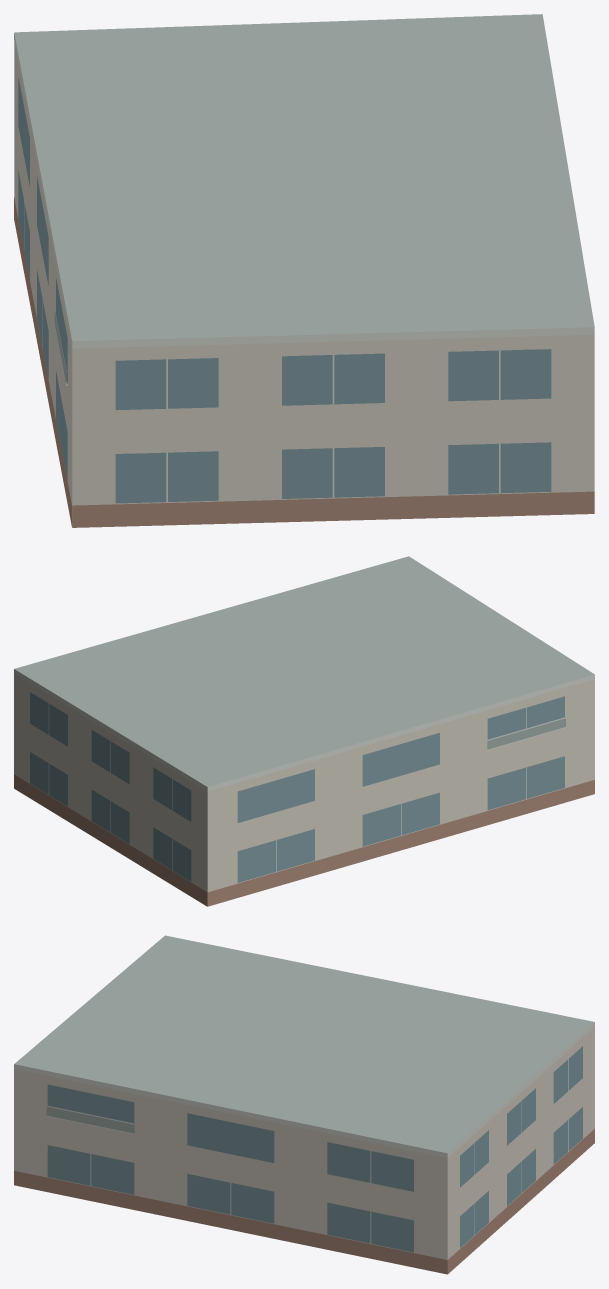
Rendered from survey-upis-32951772.glb.
3 views of the same model, one above another, from view 1: azimuth 30°, elevation 25°; view 2: azimuth 150°, elevation 25°; view 3: azimuth 270°, elevation 25° (orthographic). The views are drawn at different scales.
Visible parts, largest first — view 1: survey-upis-32951772.tmp; view 2: survey-upis-32951772.tmp; view 3: survey-upis-32951772.tmp.
Part boxes in pixels (x1=…): survey-upis-32951772.tmp: x1=14, y1=14, x2=594, y2=527; survey-upis-32951772.tmp: x1=14, y1=556, x2=594, y2=906; survey-upis-32951772.tmp: x1=14, y1=935, x2=594, y2=1274.
Size of the model in its own units: 23.55 by 6.1 by 26.52.
